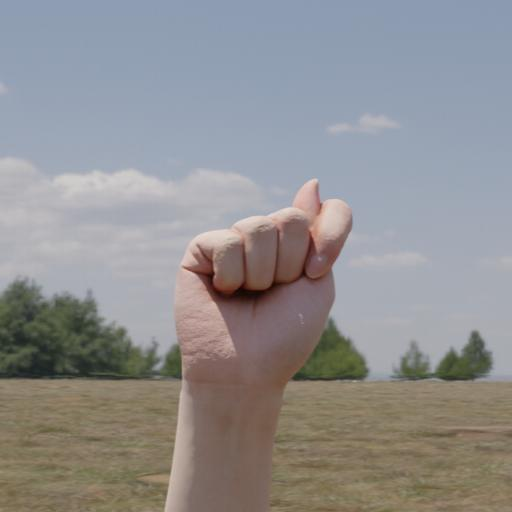T: (166, 171, 360, 406)
